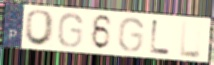6: (89, 14, 113, 52)
G: (117, 16, 146, 54), (56, 12, 85, 49)
L: (179, 19, 203, 59), (149, 19, 172, 56)
O: (23, 9, 57, 47)
